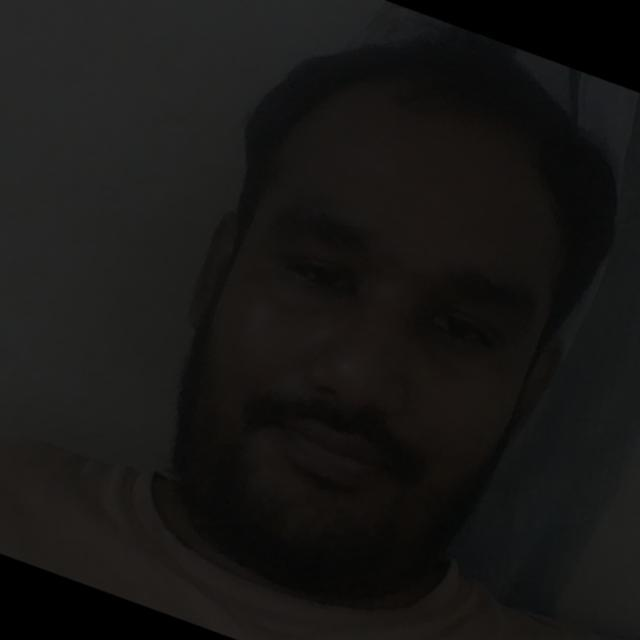Natural: (100, 130, 547, 592)
